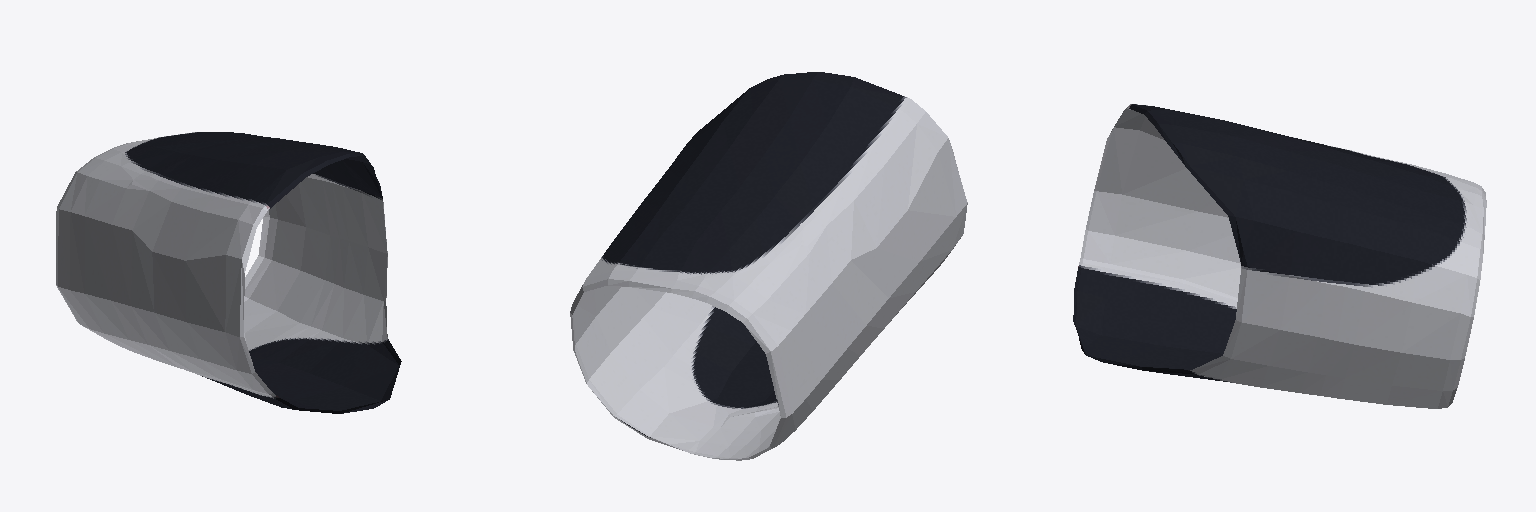
3 renders of one model, left to right at view 1: azimuth 30°, elevation 25°; view 2: azimuth 150°, elevation 25°; view 3: azimuth 270°, elevation 25°, orthographic.
Parts seen in each view (by area): view 1: R_ELBOW_P-470-FACES; view 2: R_ELBOW_P-470-FACES; view 3: R_ELBOW_P-470-FACES.
Part boxes in pixels (bbox=[...]): R_ELBOW_P-470-FACES: bbox=[56, 132, 401, 413]; R_ELBOW_P-470-FACES: bbox=[570, 72, 967, 460]; R_ELBOW_P-470-FACES: bbox=[1073, 104, 1486, 408].
Bounding box in the file's own units: 0.0747 × 0.0871 × 0.1187.
1 materials, 1 textured.